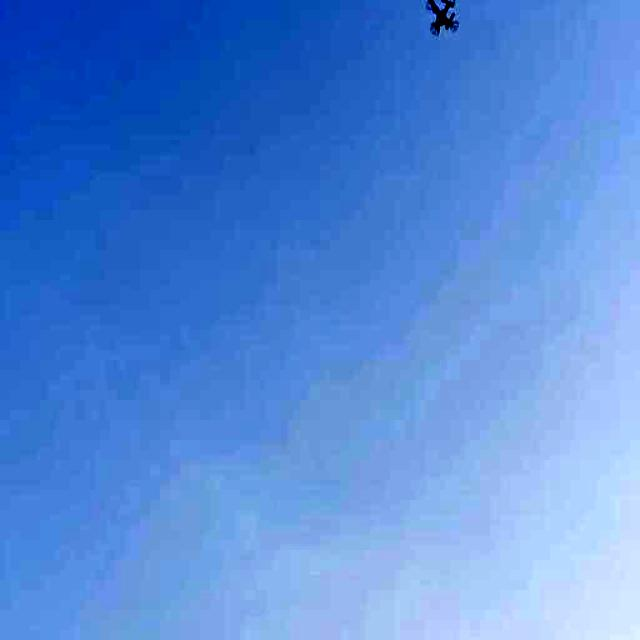bird: (422, 0, 462, 45)
